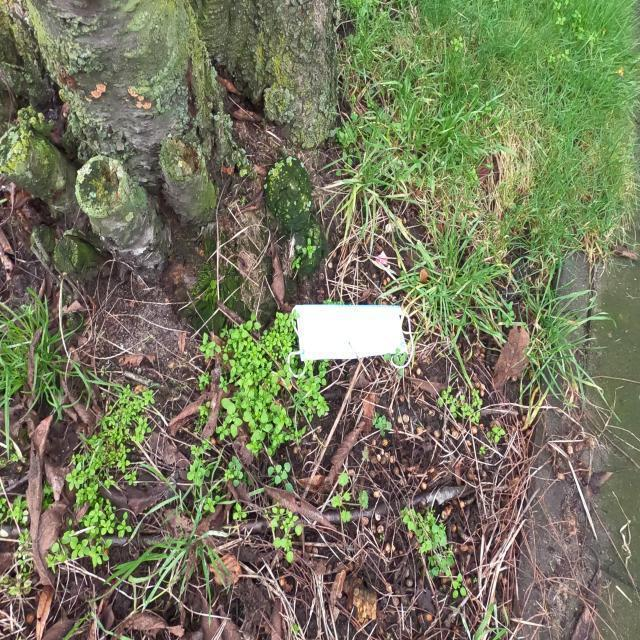Mask: (284, 300, 417, 380)
